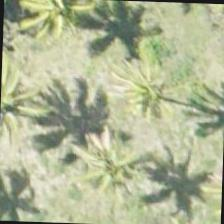Kelapa_Sawit: (103, 48, 196, 141), (68, 124, 160, 216)
